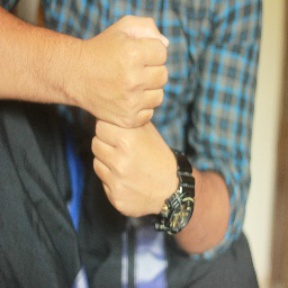G: (83, 12, 185, 215)
